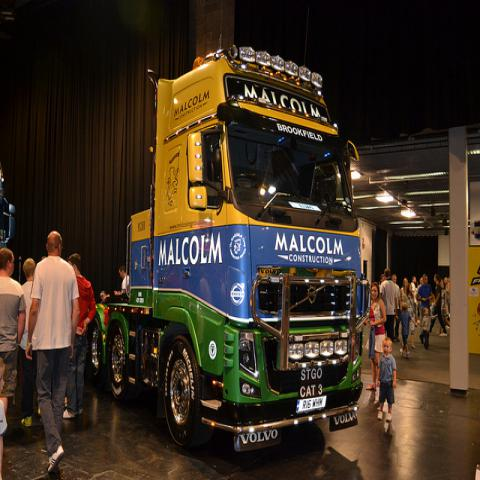truck: (84, 44, 371, 453)
